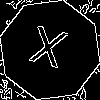X: (25, 25, 69, 78)
